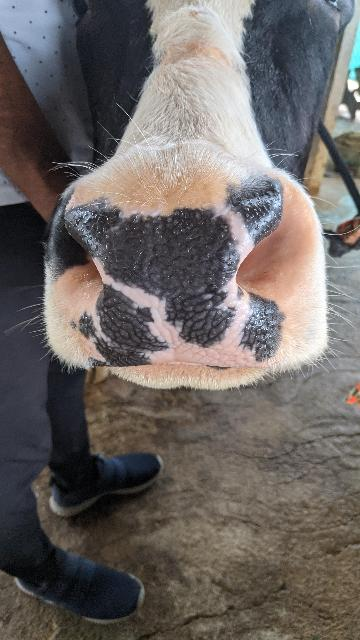Muzzle: (65, 205, 282, 363)
